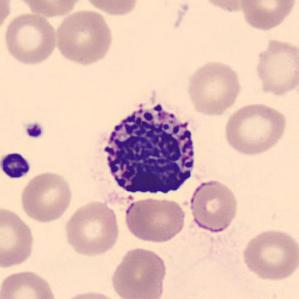Basophil: (92, 96, 204, 204)
Platelets: (0, 150, 32, 180), (22, 120, 46, 141)
RBC: (222, 100, 289, 158), (53, 8, 115, 67), (62, 198, 122, 258), (184, 59, 244, 117), (108, 244, 169, 299), (122, 195, 188, 245), (2, 11, 59, 67), (240, 227, 297, 282), (17, 169, 75, 223), (252, 36, 299, 98), (188, 178, 240, 234), (0, 204, 36, 269), (238, 0, 298, 32), (0, 267, 58, 299), (12, 0, 86, 18), (80, 0, 141, 17), (198, 0, 262, 14), (56, 288, 125, 299), (0, 1, 13, 35)
